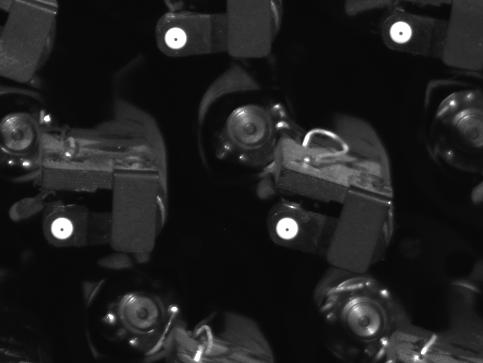fiber: (268, 213, 306, 246), (384, 19, 419, 48), (159, 23, 193, 52), (47, 212, 78, 243)
